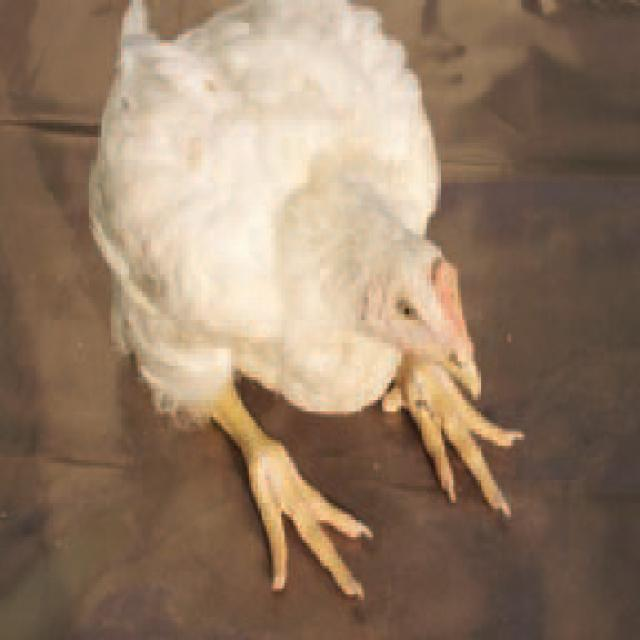AbNormal: (87, 0, 527, 600)
